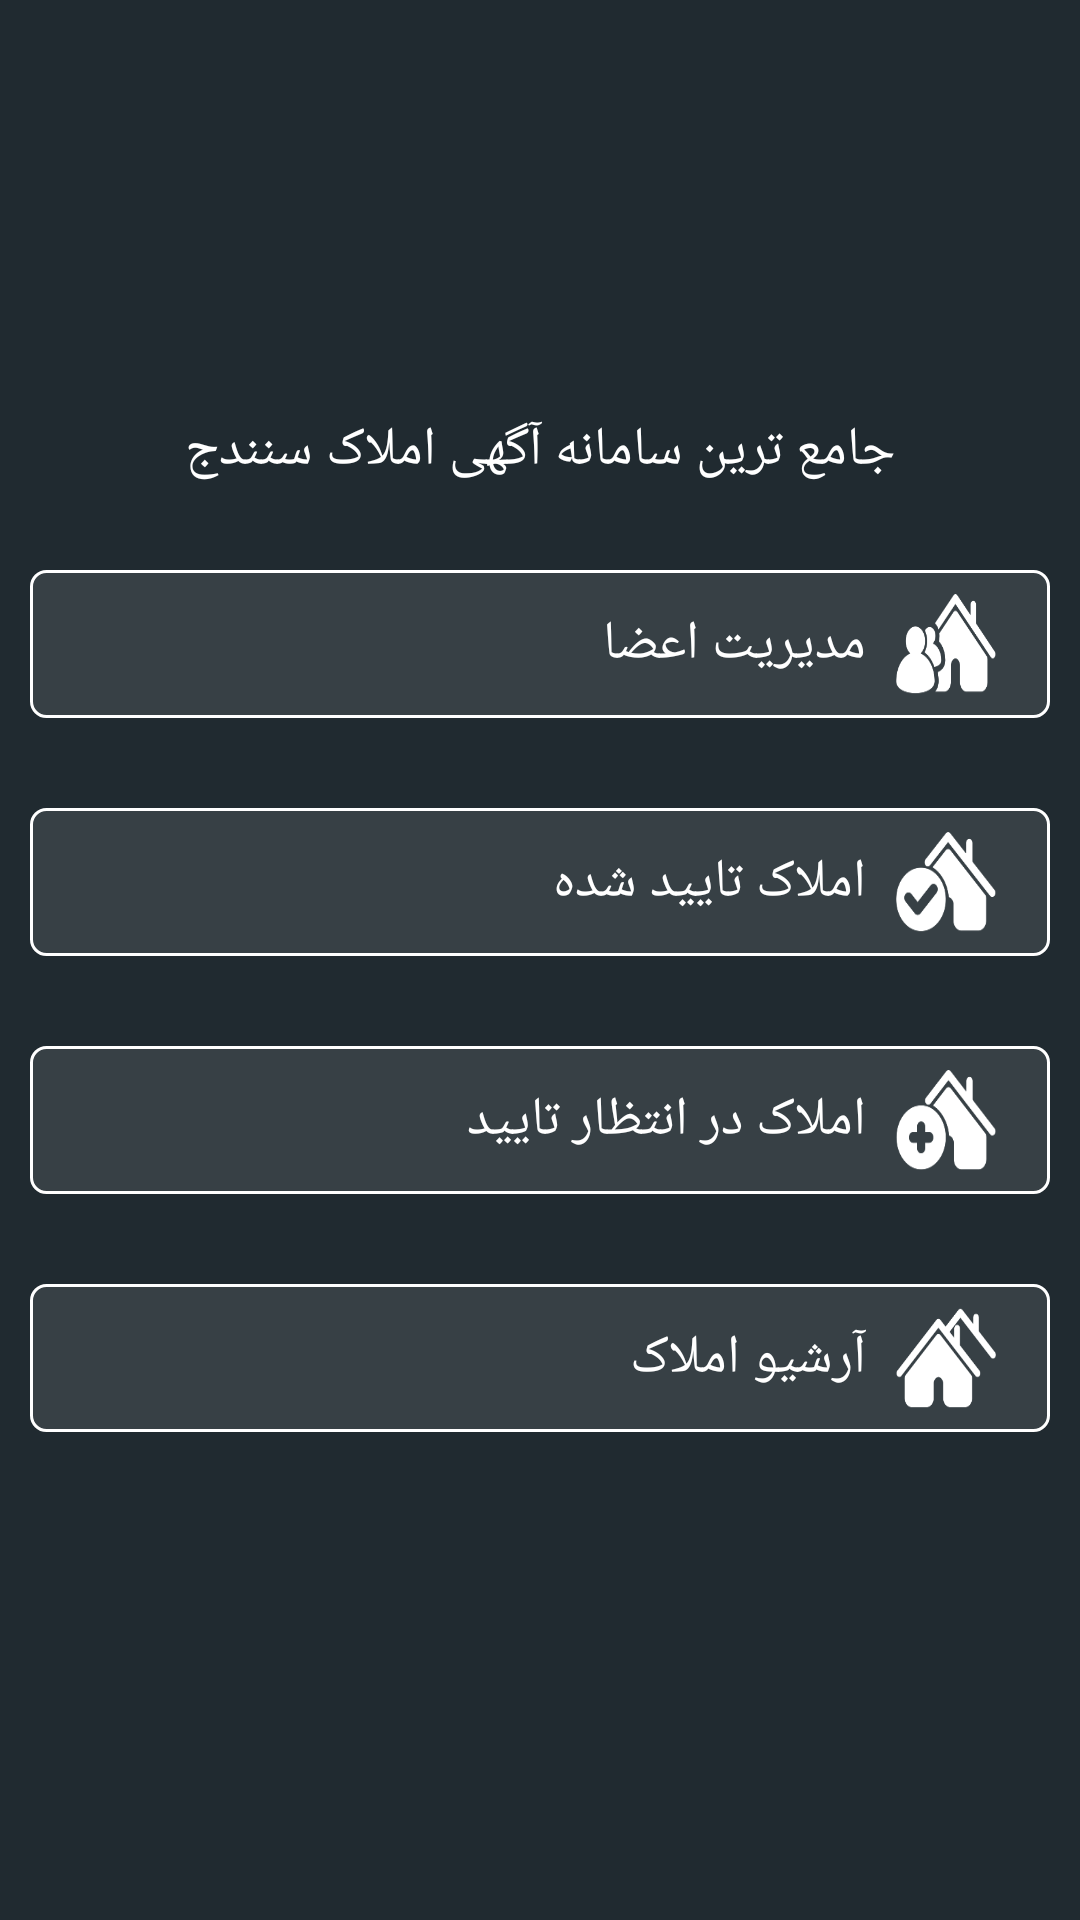

Point at icon controls on the screen. Image size 1080w x 1920h, points as (x,y).
confirm home: (946,882)
manegment home: (946,644)
